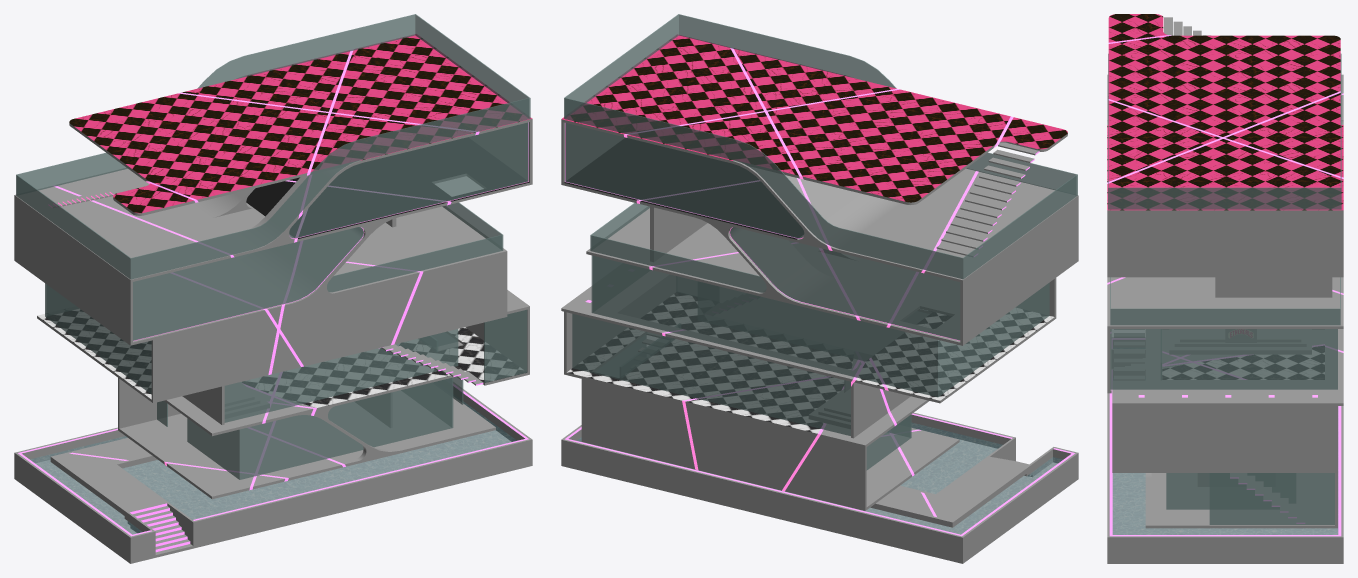
File: building.glb
The picture shows the model from 3 angles, left to right: view 1: azimuth 30°, elevation 25°; view 2: azimuth 150°, elevation 25°; view 3: azimuth 270°, elevation 25°; orthographic projection.
Visible parts, largest first — view 1: building; view 2: building; view 3: building.
Part boxes in pixels (bbox=[...]): building: bbox=[14, 14, 532, 563]; building: bbox=[561, 14, 1078, 563]; building: bbox=[1107, 14, 1343, 563].
Size of what is drawn, in the model's own units: 31.54 by 27.59 by 15.77.
Materials: 10 (4 with a texture image).
